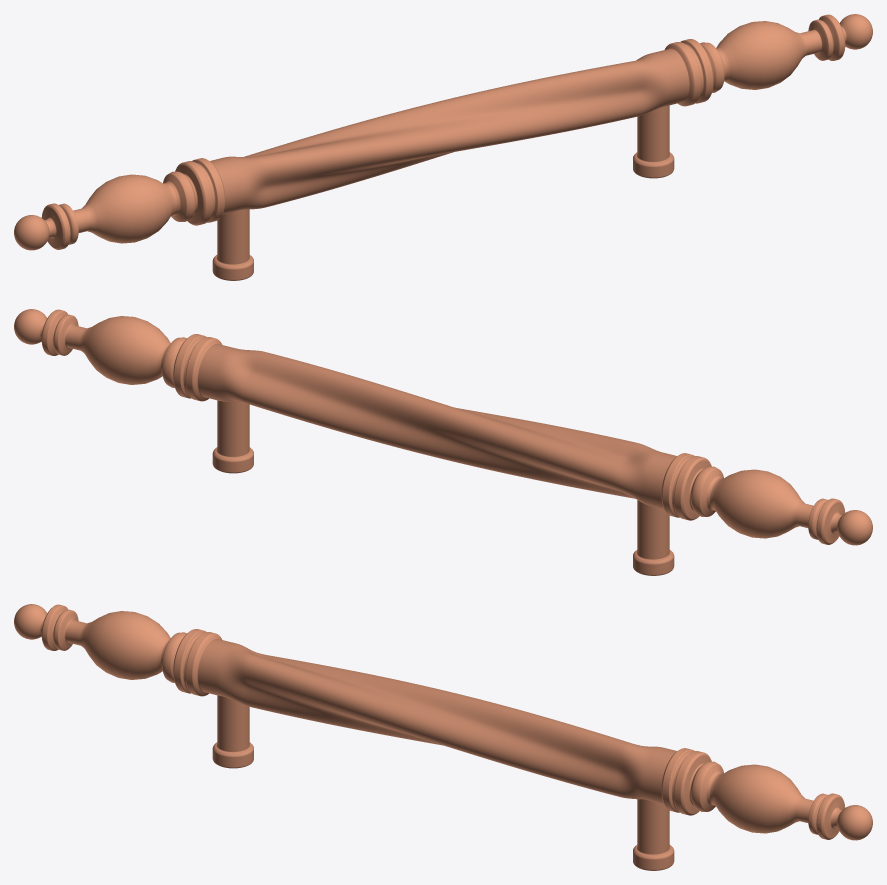
The model's file is door-handles-1733.glb.
3 renders of one model, top to bottom at view 1: azimuth 30°, elevation 25°; view 2: azimuth 150°, elevation 25°; view 3: azimuth 330°, elevation 25°, orthographic.
Parts seen in each view (by area): view 1: Bar, Post -1, Post 1; view 2: Bar, Post 1, Post -1; view 3: Bar, Post 1, Post -1.
Boxes of the visible parts, <box> form: Bar: <box>14,14,872,250</box>; Post -1: <box>212,209,253,280</box>; Post 1: <box>633,105,674,178</box>; Bar: <box>14,309,872,545</box>; Post 1: <box>212,400,253,473</box>; Post -1: <box>633,500,674,575</box>; Bar: <box>14,604,872,840</box>; Post 1: <box>633,799,674,870</box>; Post -1: <box>212,695,253,768</box>.
Size of the model in its own units: 0.305 by 0.041 by 0.021.
